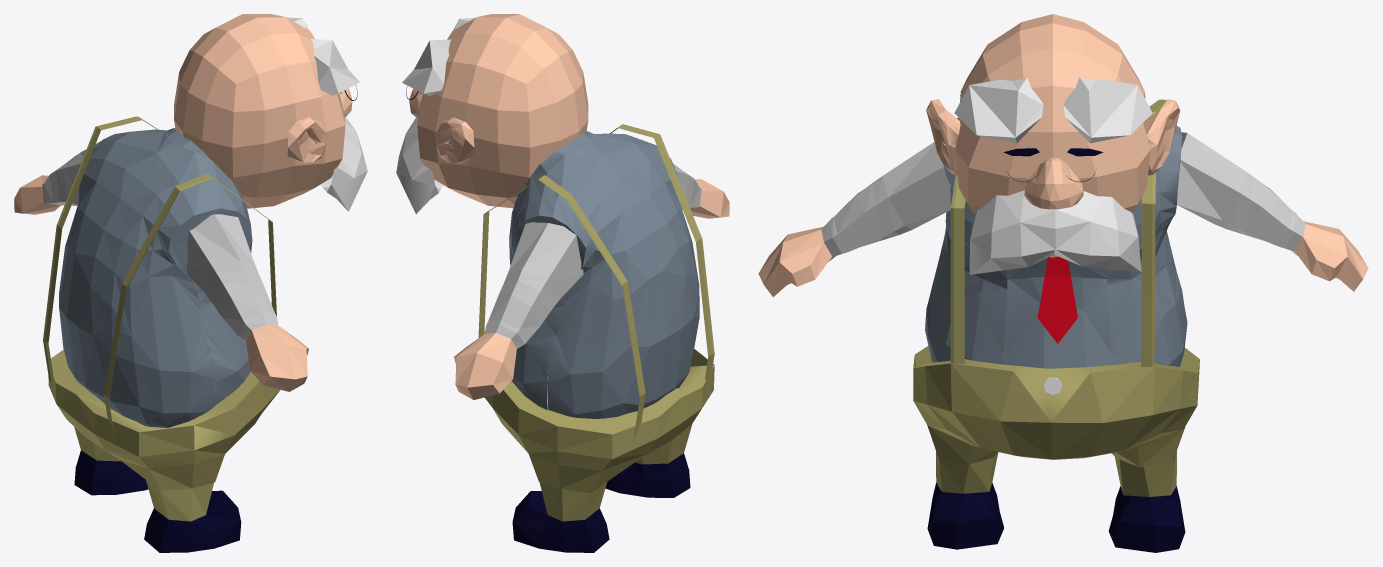
File: OldManModelBase.fbx
3 views of the same model, side by side, from view 1: azimuth 30°, elevation 25°; view 2: azimuth 150°, elevation 25°; view 3: azimuth 270°, elevation 25° (orthographic). The views are drawn at different scales.
Parts seen in each view (by area): view 1: Torso, Head, Pants, ArmL.001, ShoeR, ShowL, Pants.001, ArmL.002, Pants.002, Mustache, EyebrowR, EarR; view 2: Torso, Head, Pants, ArmL.002, ShowL, ShoeR, Pants.002, Pants.001, Mustache, EyebrowL, ArmL.001, EarL; view 3: Pants, Torso, Head, Mustache, ArmL.002, ArmL.001, ShowL, ShoeR, EyebrowL, EyebrowR, Pants.002, Pants.001 (+4 smaller).
Part boxes in pixels (x1=…): Torso: x1=59, y1=128, x2=252, y2=427; Head: x1=174, y1=14, x2=345, y2=208; Pants: x1=48, y1=335, x2=280, y2=490; ArmL.001: x1=186, y1=214, x2=308, y2=391; ShoeR: x1=144, y1=480, x2=241, y2=552; ShowL: x1=74, y1=427, x2=148, y2=495; Pants.001: x1=104, y1=173, x2=276, y2=438; ArmL.002: x1=14, y1=141, x2=100, y2=214; Pants.002: x1=43, y1=116, x2=157, y2=381; Mustache: x1=320, y1=117, x2=367, y2=211; EyebrowR: x1=311, y1=39, x2=359, y2=95; EarR: x1=287, y1=117, x2=325, y2=163; Torso: x1=509, y1=130, x2=699, y2=418; Head: x1=417, y1=14, x2=588, y2=208; Pants: x1=484, y1=330, x2=714, y2=493; ArmL.002: x1=454, y1=222, x2=583, y2=399; ShowL: x1=512, y1=482, x2=609, y2=552; ShoeR: x1=605, y1=424, x2=692, y2=497; Pants.002: x1=478, y1=175, x2=645, y2=437; Pants.001: x1=610, y1=124, x2=714, y2=394; Mustache: x1=396, y1=117, x2=442, y2=214; EyebrowL: x1=402, y1=39, x2=451, y2=95; ArmL.001: x1=673, y1=163, x2=729, y2=218; EarL: x1=436, y1=117, x2=474, y2=163; Pants: x1=913, y1=336, x2=1199, y2=467; Torso: x1=925, y1=117, x2=1187, y2=368; Head: x1=955, y1=14, x2=1150, y2=257; Mustache: x1=969, y1=190, x2=1141, y2=274; ArmL.002: x1=1177, y1=132, x2=1368, y2=291; ArmL.001: x1=758, y1=142, x2=950, y2=296; ShowL: x1=1108, y1=451, x2=1185, y2=552; ShoeR: x1=927, y1=451, x2=1003, y2=549; EyebrowL: x1=1063, y1=77, x2=1152, y2=143; EyebrowR: x1=954, y1=77, x2=1043, y2=143; Pants.002: x1=1141, y1=99, x2=1166, y2=366; Pants.001: x1=950, y1=95, x2=965, y2=363.
Size of the model in its own units: 365 by 599 by 590.
